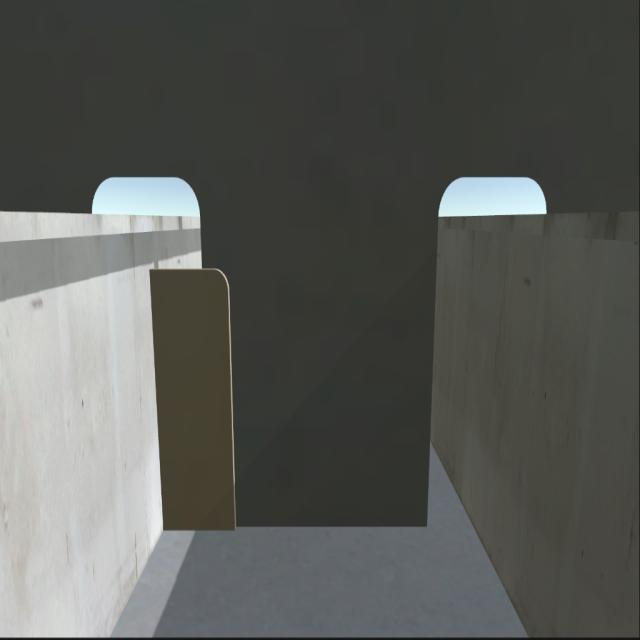fillet_yong_jeop_jang: (163, 508, 434, 546)
longi_yong_jeop_jang: (148, 261, 163, 528)
plate_CP05: (160, 268, 236, 528)
